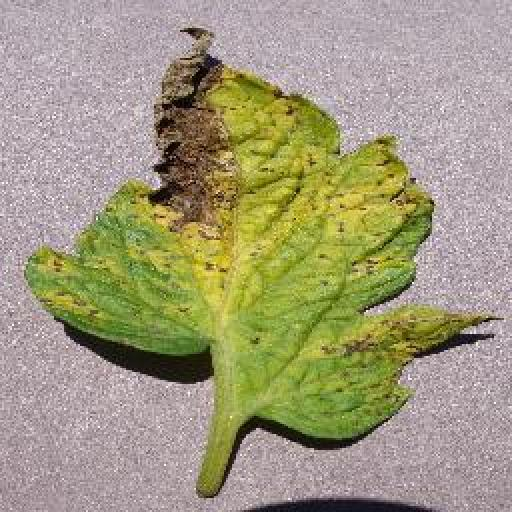disease_tomato: (27, 24, 502, 443)
